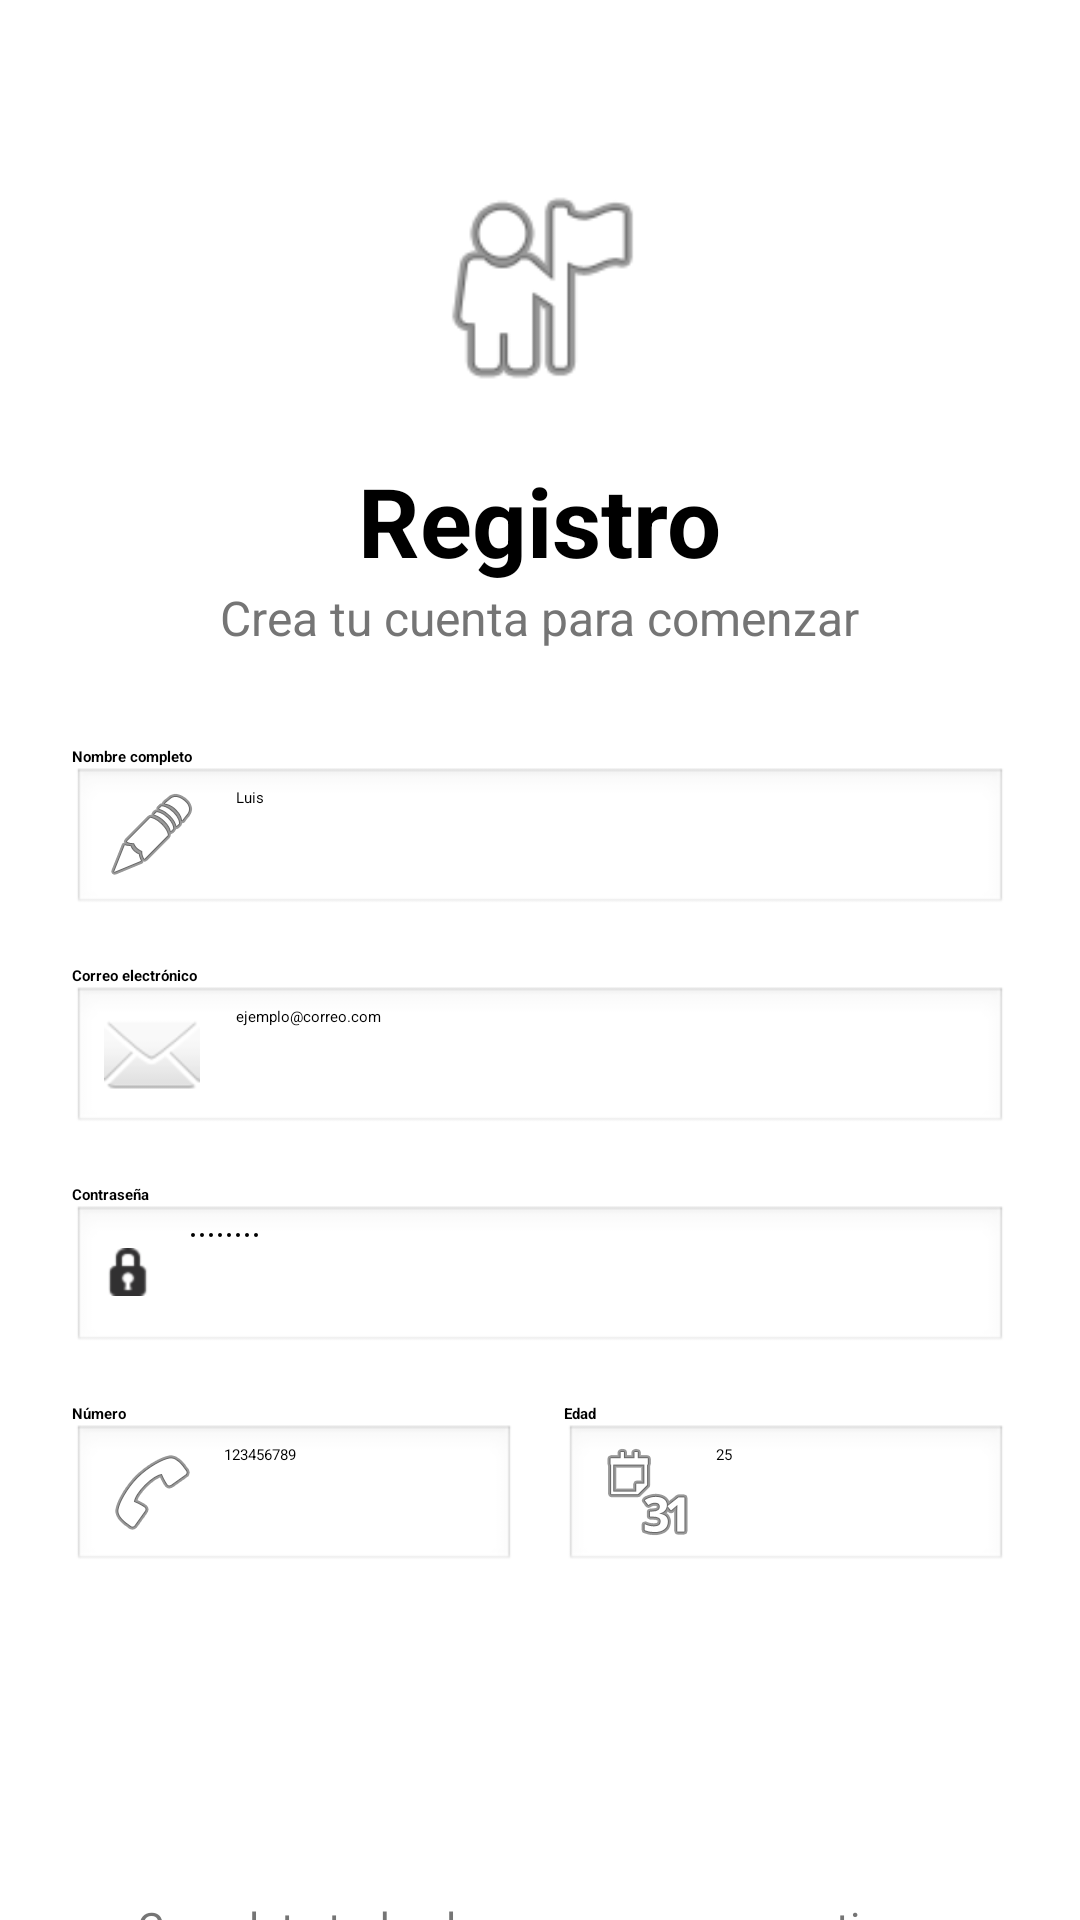

Named icons in this screenshot (1080*1920) and their bounding boxes, (x1, y1, x2, y2):
myplaces: (452, 198, 633, 378)
